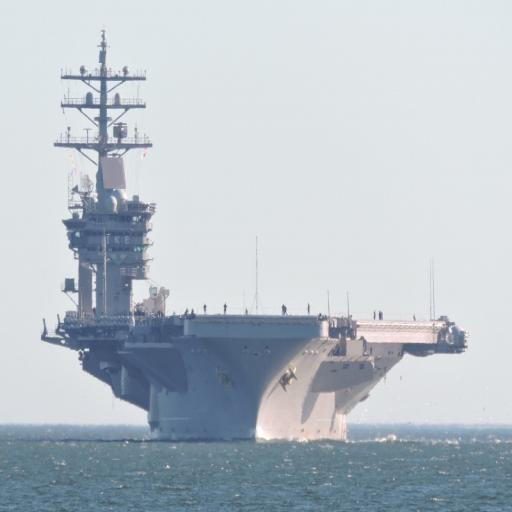Portanaves: (38, 26, 472, 449)
